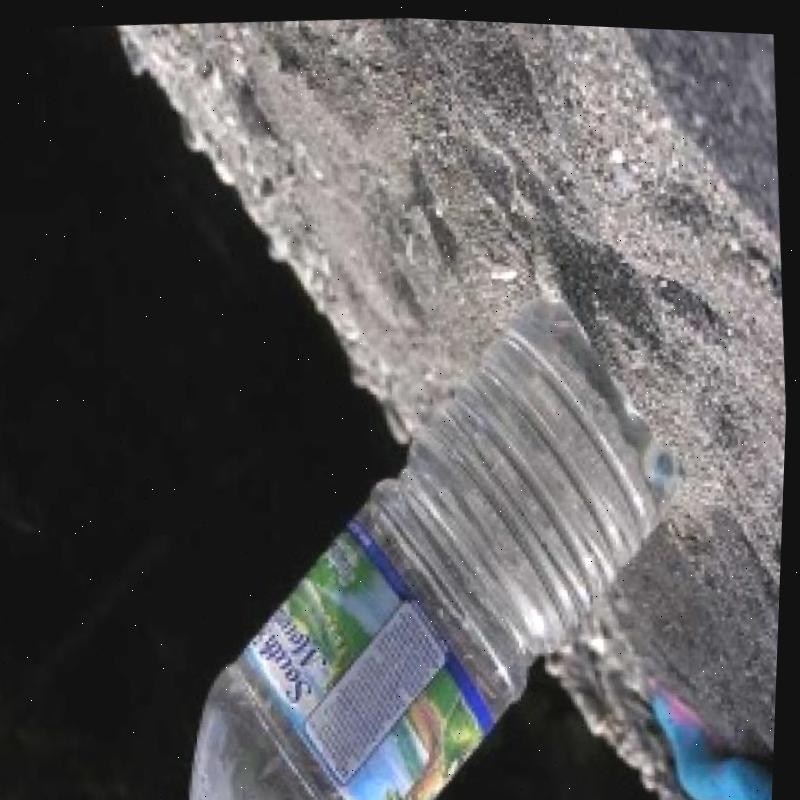botella: (153, 267, 715, 800)
